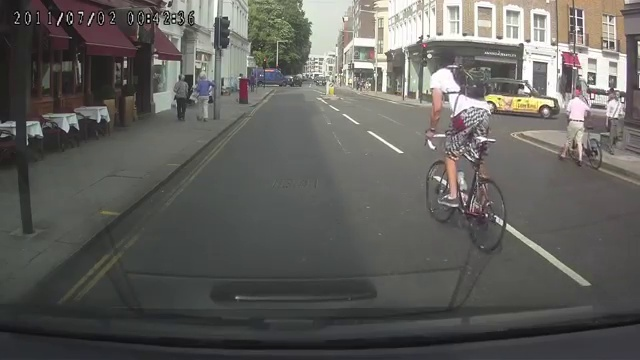cyclist_back: (413, 52, 507, 252), (557, 88, 603, 172)
